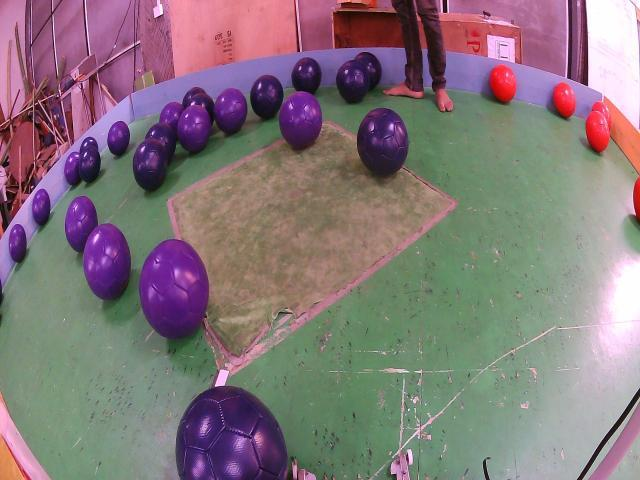jambhalya: (139, 238, 209, 338), (84, 223, 131, 300), (279, 92, 322, 148), (65, 195, 98, 252), (178, 105, 211, 153), (214, 88, 248, 133), (159, 102, 184, 138), (108, 120, 130, 155), (32, 188, 50, 225), (9, 223, 26, 262), (64, 152, 80, 185)
kaalyya: (176, 387, 288, 480), (356, 108, 409, 177), (132, 138, 168, 192), (250, 75, 284, 118), (336, 60, 370, 103), (145, 122, 176, 162), (291, 57, 321, 94), (355, 52, 381, 89), (189, 92, 214, 124), (79, 147, 101, 182), (182, 87, 205, 108), (79, 137, 99, 155)
